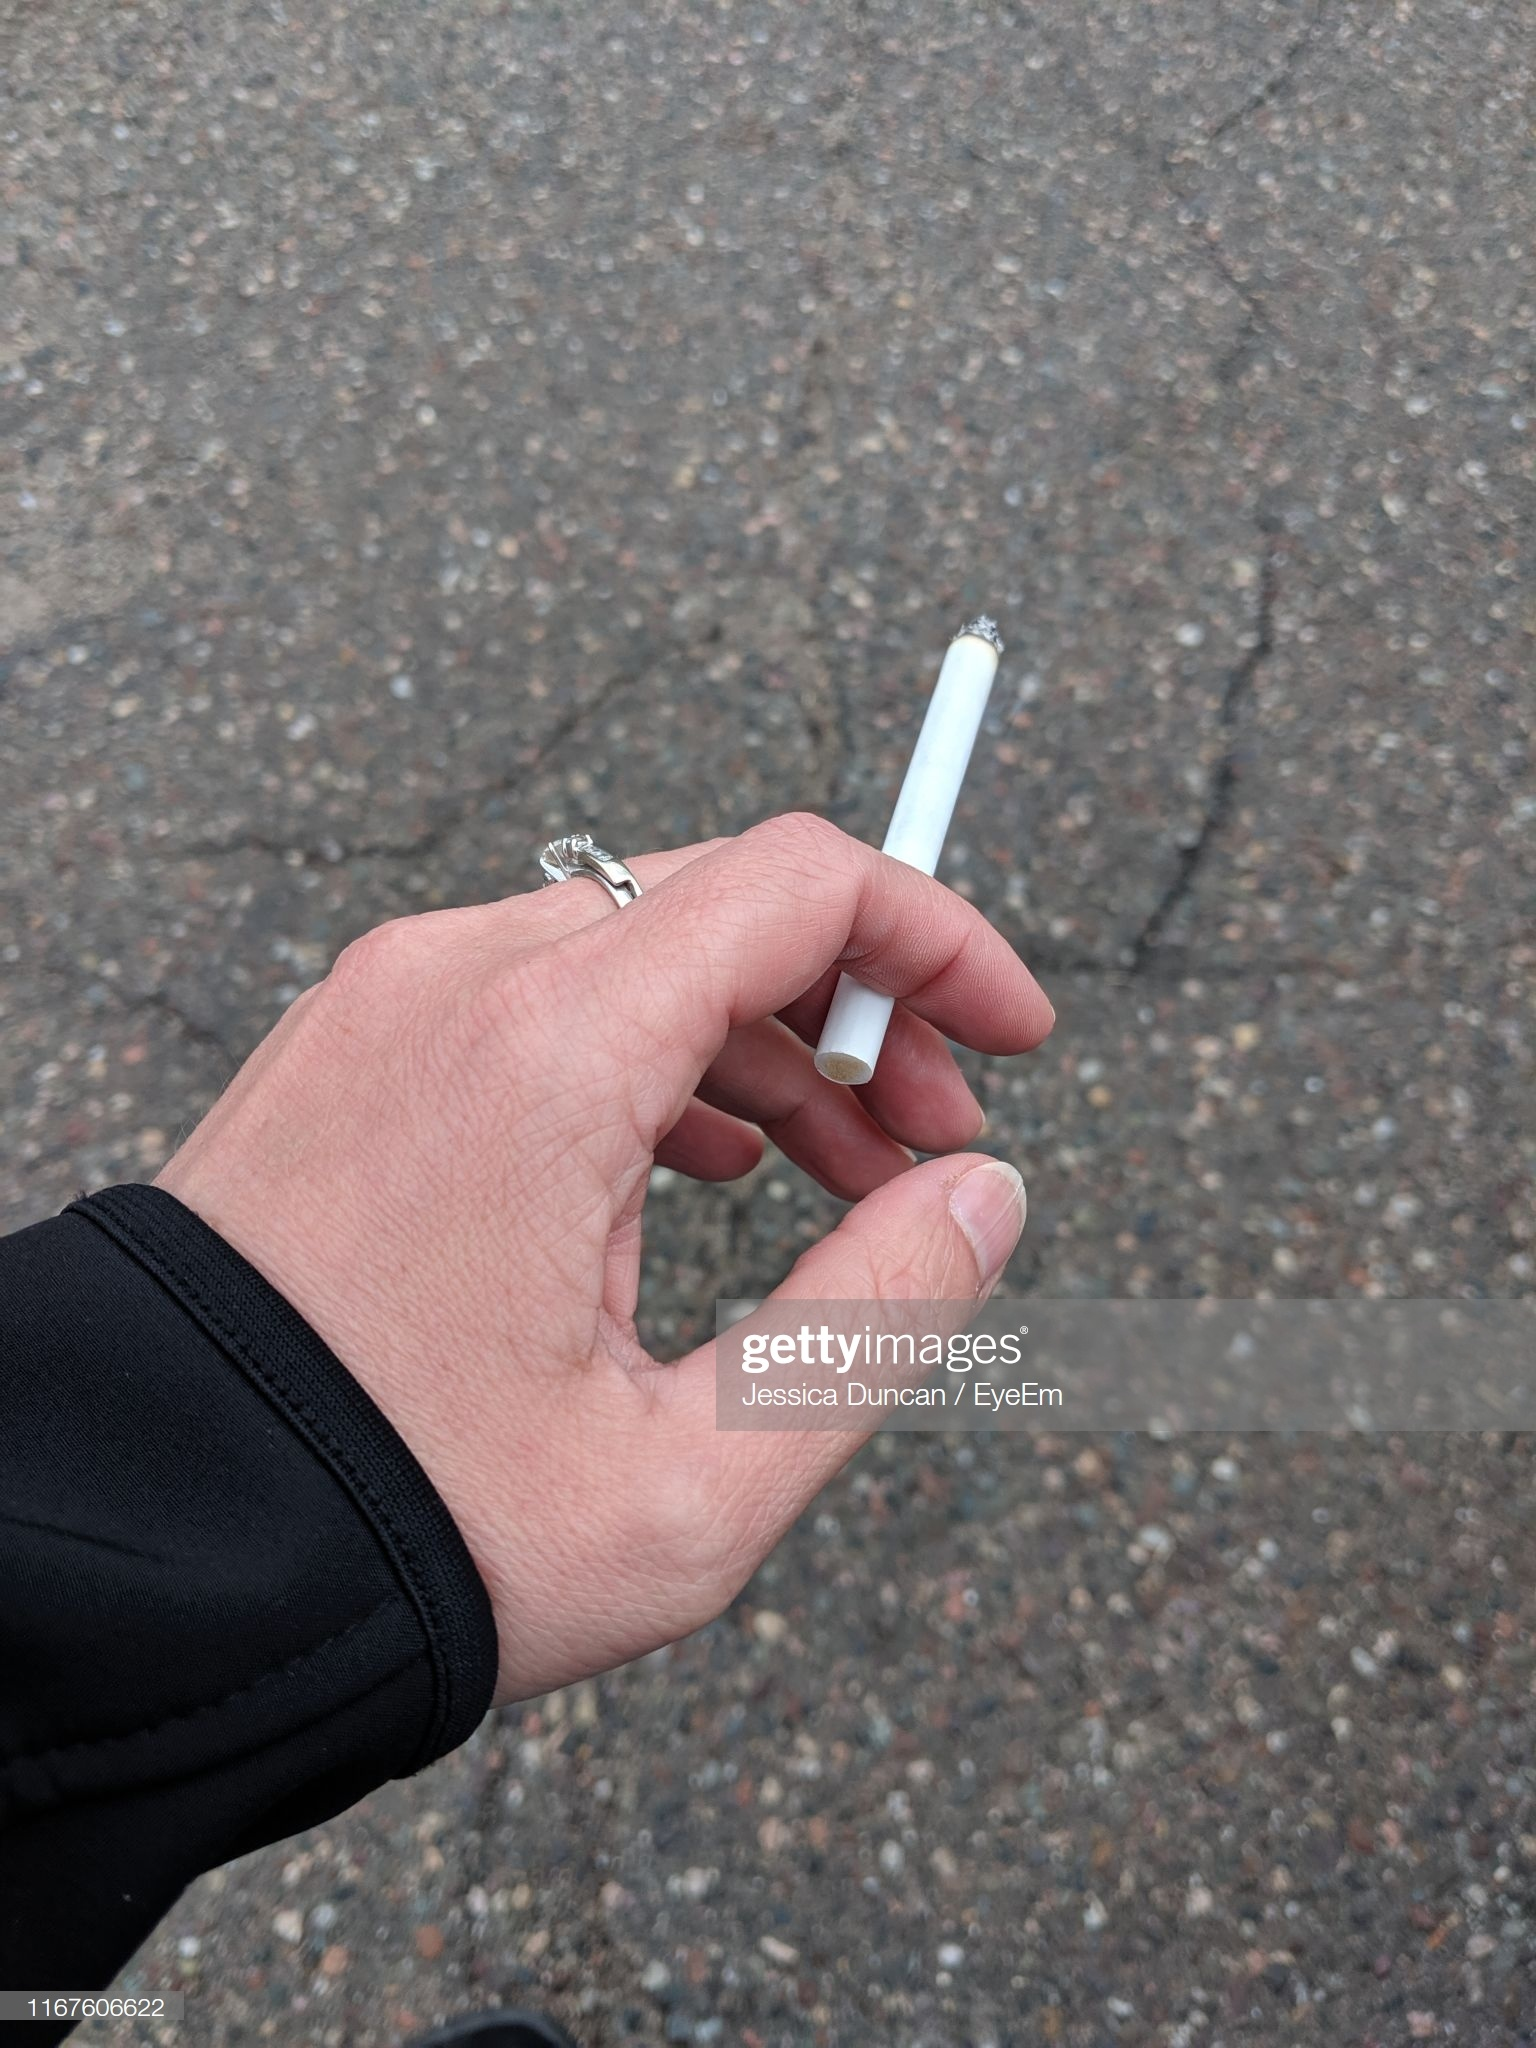sigaretta: (810, 639, 1000, 1079)
